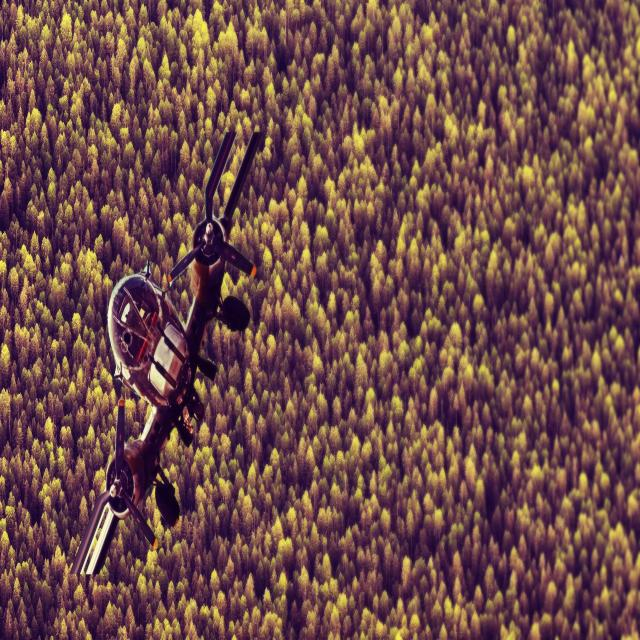airplane: (68, 127, 261, 578)
